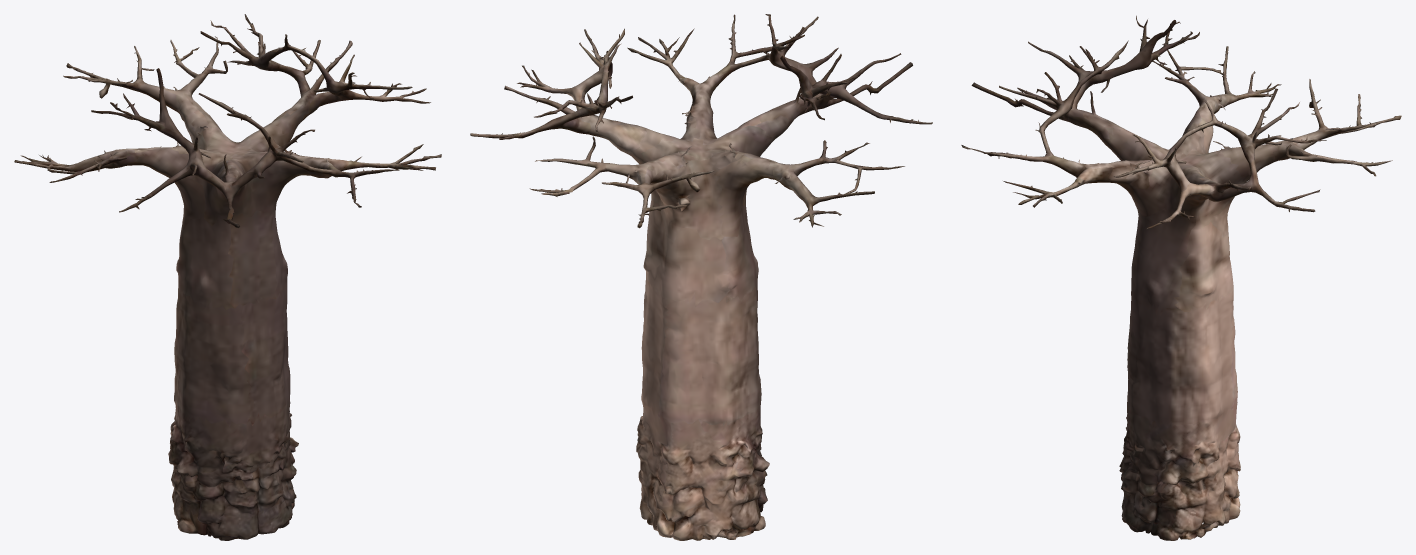
The model's file is tree_baobab.glb.
3 views of the same model, side by side, from view 1: azimuth 30°, elevation 25°; view 2: azimuth 150°, elevation 25°; view 3: azimuth 270°, elevation 25° (orthographic). The views are drawn at different scales.
Visible parts, largest first — view 1: tripo_node_70543336-05d1-43c2-b880-575a4b2d2ba0; view 2: tripo_node_70543336-05d1-43c2-b880-575a4b2d2ba0; view 3: tripo_node_70543336-05d1-43c2-b880-575a4b2d2ba0.
Boxes of the visible parts, x1,y1,x2,y2 form: tripo_node_70543336-05d1-43c2-b880-575a4b2d2ba0: (14,14,441,540); tripo_node_70543336-05d1-43c2-b880-575a4b2d2ba0: (470,14,932,540); tripo_node_70543336-05d1-43c2-b880-575a4b2d2ba0: (961,15,1401,540).
Bounding box in the file's own units: 0.843 × 1 × 0.8662.
1 material, 1 textured.
